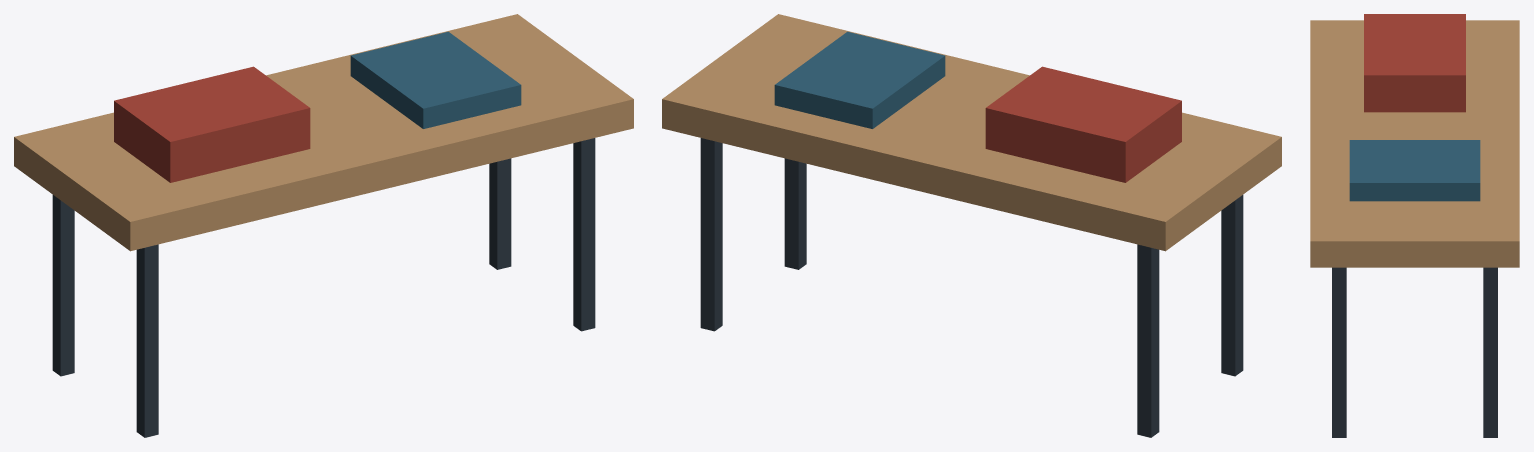
File: workbench.glb
3 renders of one model, left to right at view 1: azimuth 30°, elevation 25°; view 2: azimuth 150°, elevation 25°; view 3: azimuth 270°, elevation 25°, orthographic. The views are drawn at different scales.
Visible parts, largest first — view 1: workbench; view 2: workbench; view 3: workbench.
Boxes of the visible parts, x1,y1,x2,y2 form: workbench: (14,14,633,437); workbench: (662,14,1281,437); workbench: (1310,14,1519,437).
Bounding box in the file's own units: 1.8 × 0.93 × 0.72.
